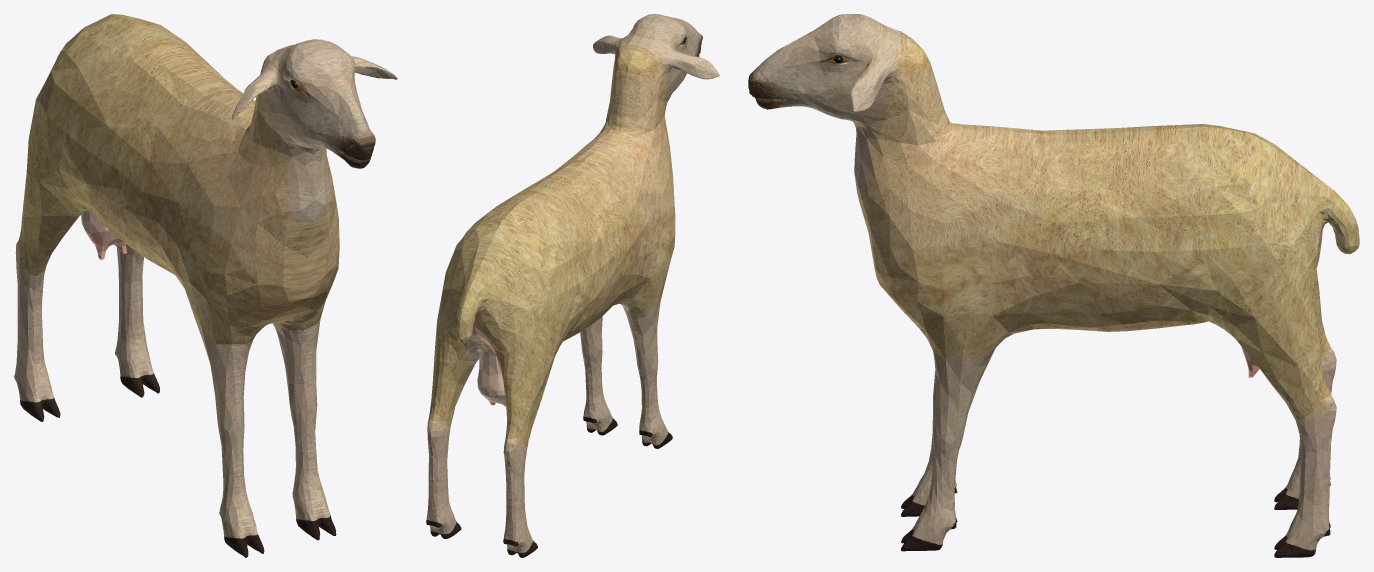
The model's file is 7TX6H1WXH7GFYSA9S4TSD86G7.fbx.
3 views of the same model, side by side, from view 1: azimuth 30°, elevation 25°; view 2: azimuth 150°, elevation 25°; view 3: azimuth 270°, elevation 25° (orthographic). The views are drawn at different scales.
Parts seen in each view (by area): view 1: Object_SHECPO2.jpg, Object_SHECARA.jpg, Object_SHEPATAB.jpg, Object_SHEPATAA.jpg, Object_SHECPO.jpg; view 2: Object_SHECPO2.jpg, Object_SHEPATAB.jpg, Object_SHEPATAA.jpg, Object_SHECARA.jpg, Object_SHECPO.jpg; view 3: Object_SHECPO2.jpg, Object_SHECARA.jpg, Object_SHEPATAB.jpg, Object_SHEPATAA.jpg.
Boxes of the visible parts, x1,y1,x2,y2 form: Object_SHECPO2.jpg: (18,14,339,344); Object_SHECARA.jpg: (232,39,397,257); Object_SHEPATAB.jpg: (195,319,336,557); Object_SHEPATAA.jpg: (14,240,159,421); Object_SHECPO.jpg: (81,210,127,259); Object_SHECPO2.jpg: (429,45,675,448); Object_SHEPATAB.jpg: (580,296,672,448); Object_SHEPATAA.jpg: (426,417,537,557); Object_SHECARA.jpg: (593,14,719,144); Object_SHECPO.jpg: (457,313,505,406); Object_SHECPO2.jpg: (868,31,1359,421); Object_SHECARA.jpg: (748,14,908,232); Object_SHEPATAB.jpg: (838,60,994,551); Object_SHEPATAA.jpg: (1274,348,1336,557).
Bounding box in the file's own units: 0.7659 × 2.3 × 2.5.
6 materials, 6 textured.
